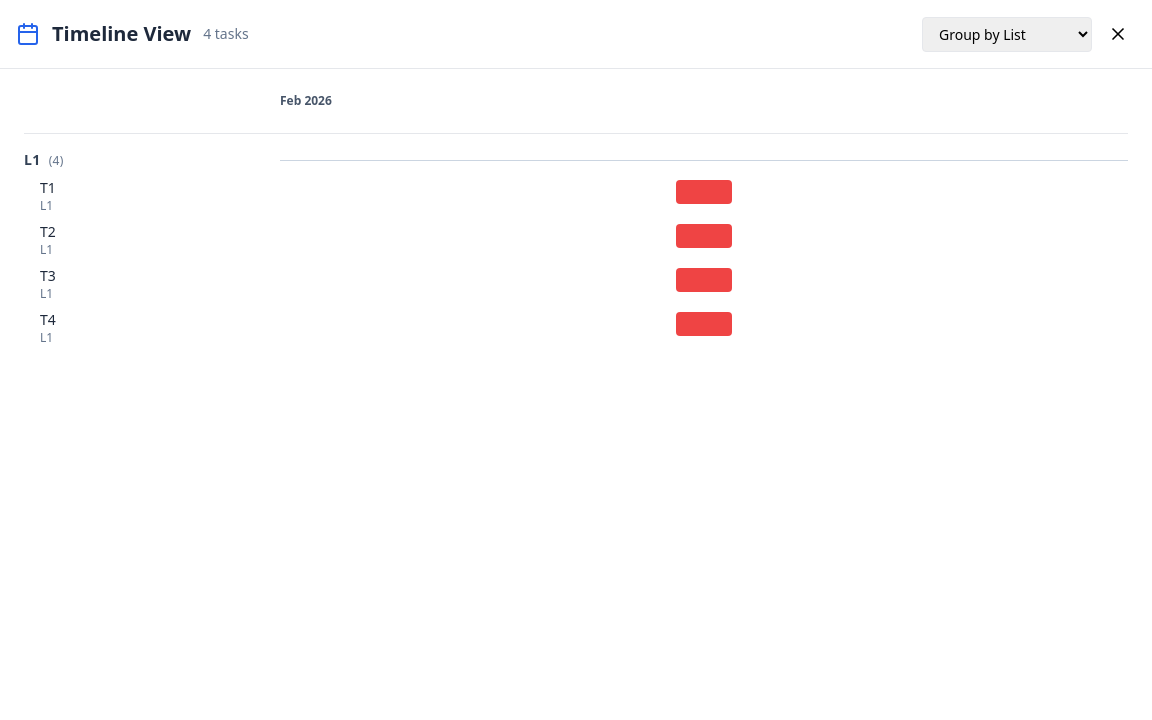
Test: GanttView Component › handles grouping by assignee and name fallback branches
Select "Group by Assignee" in the dropdown. click: (1007, 34)
box: x1=922 y1=16 x2=1092 y2=52
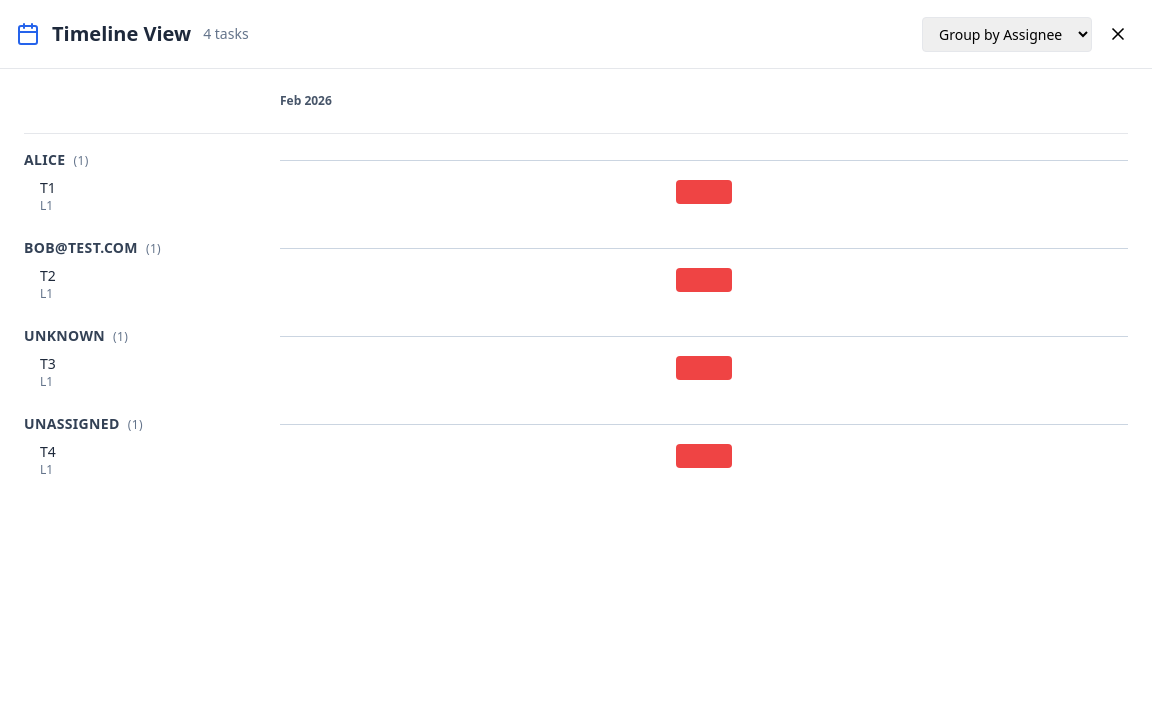
Check: the heading "Alice(1)" is shown, box x1=24 y1=150 x2=89 y2=169
Check: the heading "bob@test.com(1)" is shown, box x1=24 y1=238 x2=161 y2=257
Check: the heading "Unknown(1)" is shown, box x1=24 y1=326 x2=128 y2=345
